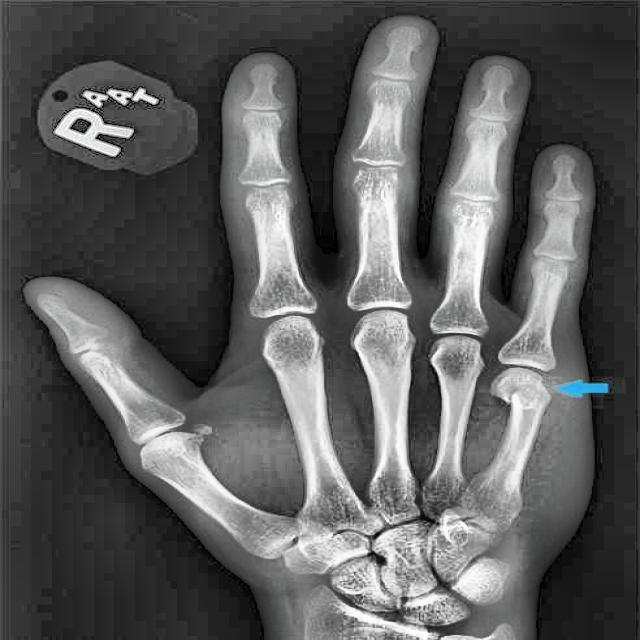fracture: (502, 386, 548, 410)
